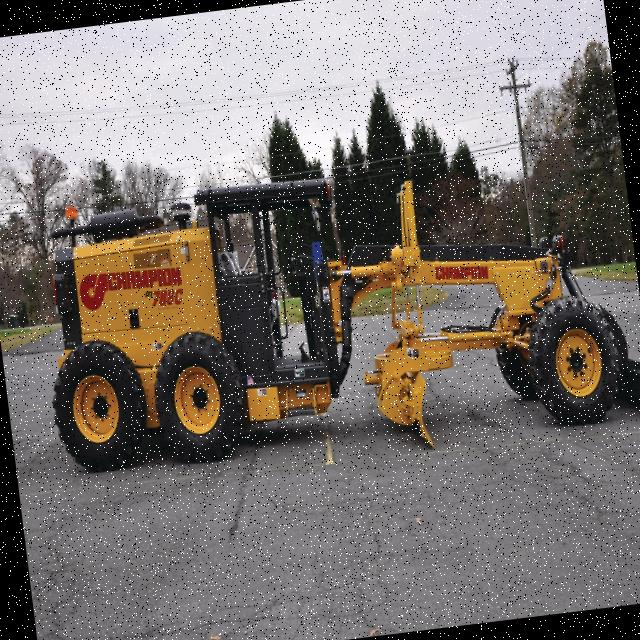Grader: (16, 113, 640, 503)
